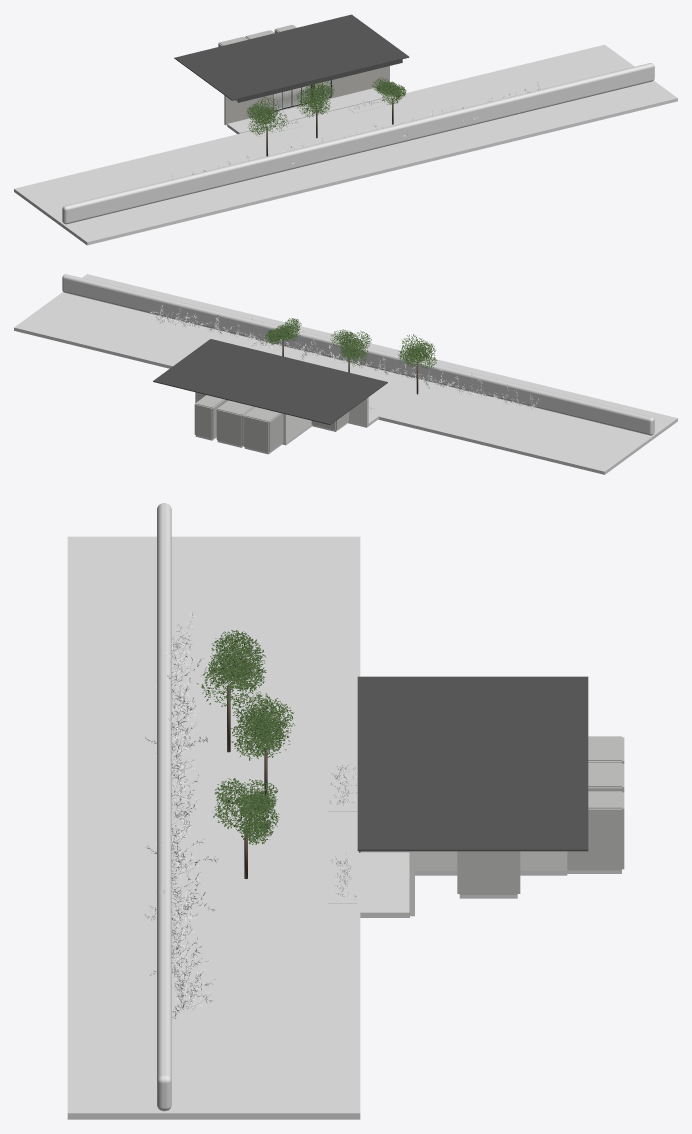
Rendered from ldk_2700.glb.
3 renders of one model, top to bottom at view 1: azimuth 30°, elevation 25°; view 2: azimuth 150°, elevation 25°; view 3: azimuth 270°, elevation 25°, orthographic. The views are drawn at different scales.
Parts seen in each view (by area): view 1: 芝生, 生垣, 屋根, テラス_タイル, 外壁_東, シンボルツリー3_葉, シンボルツリー1_葉, 外壁_西, 鼻隠し, シンボルツリー2_葉, レース閉0; view 2: 芝生, 生垣, 屋根, シンボルツリー1_葉, シンボルツリー3_葉, パントリー_奥壁, 洗面室_奥壁, シンボルツリー2_葉, 玄関ホール_奥壁, パントリー_側壁1, 西壁1, 南壁_西端 (+1 smaller); view 3: 芝生, 屋根, 生垣, テラス_タイル, シンボルツリー3_葉, シンボルツリー2_葉, シンボルツリー1_葉, 子ども部屋ホール_奥壁, 玄関ホール_側壁2, 植栽帯_西, 植栽帯_東, 東壁1.
Part boxes in pixels (x1,y1,x2,y2): 芝生: [14, 44, 677, 245]; 生垣: [62, 63, 654, 224]; 屋根: [174, 14, 409, 100]; テラス_タイル: [227, 88, 392, 134]; 外壁_東: [332, 66, 389, 98]; シンボルツリー3_葉: [246, 97, 288, 134]; シンボルツリー1_葉: [295, 81, 334, 117]; 外壁_西: [225, 94, 273, 125]; 鼻隠し: [238, 59, 402, 102]; シンボルツリー2_葉: [371, 77, 406, 104]; レース閉0: [273, 85, 310, 109]; 芝生: [14, 274, 677, 474]; 生垣: [62, 274, 654, 435]; 屋根: [153, 339, 387, 424]; シンボルツリー1_葉: [330, 329, 371, 365]; シンボルツリー3_葉: [398, 334, 437, 368]; パントリー_奥壁: [244, 416, 268, 452]; 洗面室_奥壁: [217, 409, 241, 445]; シンボルツリー2_葉: [265, 318, 301, 344]; 玄関ホール_奥壁: [195, 404, 212, 438]; パントリー_側壁1: [268, 413, 283, 452]; 西壁1: [284, 414, 311, 442]; 南壁_西端: [348, 397, 368, 427]; 芝生: [67, 536, 360, 1119]; 屋根: [357, 676, 588, 851]; 生垣: [157, 503, 171, 1111]; テラス_タイル: [360, 852, 409, 917]; シンボルツリー3_葉: [196, 630, 266, 706]; シンボルツリー2_葉: [212, 778, 279, 844]; シンボルツリー1_葉: [231, 689, 295, 760]; 子ども部屋ホール_奥壁: [459, 851, 517, 894]; 玄関ホール_側壁2: [567, 808, 621, 870]; 植栽帯_西: [328, 767, 357, 811]; 植栽帯_東: [328, 861, 357, 903]; 東壁1: [520, 851, 567, 870].
Size of the model in its own units: 55 by 5.55 by 22.45.
